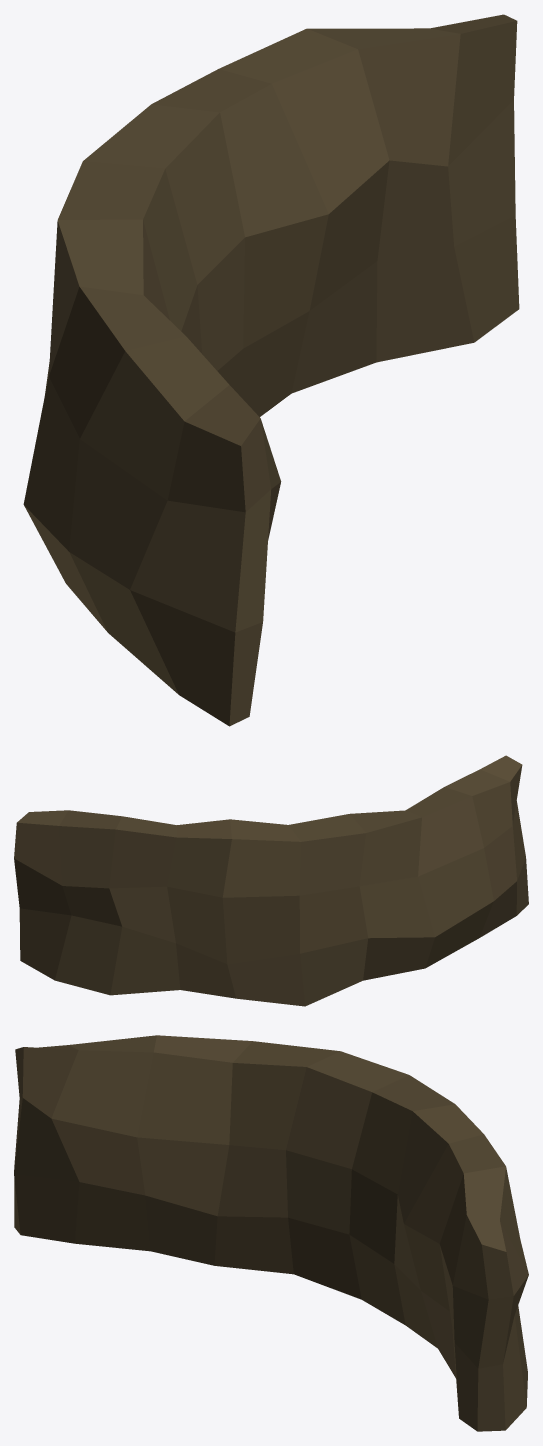
File: SmallCorner.1.fbx
3 views of the same model, one above another, from view 1: azimuth 30°, elevation 25°; view 2: azimuth 150°, elevation 25°; view 3: azimuth 270°, elevation 25° (orthographic). The views are drawn at different scales.
Visible parts, largest first — view 1: Small_Wall Corner.1; view 2: Small_Wall Corner.1; view 3: Small_Wall Corner.1.
Boxes of the visible parts, x1,y1,x2,y2 form: Small_Wall Corner.1: [23, 14, 519, 726]; Small_Wall Corner.1: [14, 755, 528, 1006]; Small_Wall Corner.1: [14, 1035, 528, 1431].
Bounding box in the file's own units: 1290 × 598 × 1262.
